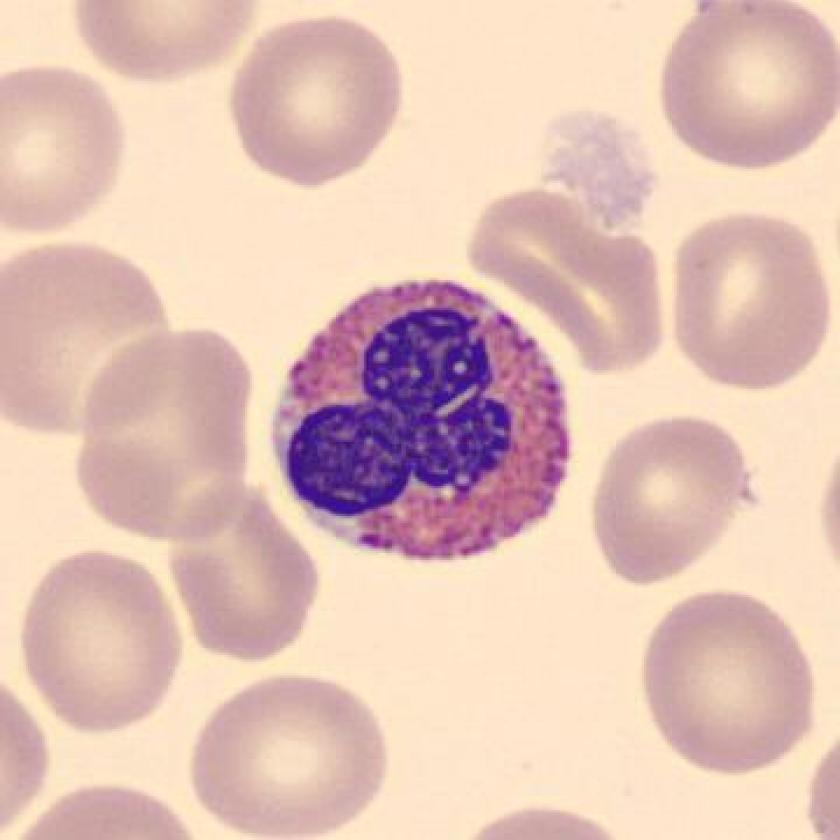eosinophil: (253, 265, 584, 579)
